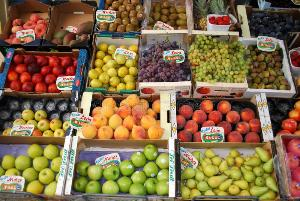apple: (69, 137, 172, 199), (0, 136, 66, 198), (1, 94, 76, 138), (89, 40, 137, 88)
grape: (192, 35, 245, 91), (140, 39, 190, 85)
kiwi: (104, 0, 148, 36), (150, 0, 188, 32)
mango: (44, 12, 92, 46)
peach: (173, 94, 270, 142), (78, 94, 168, 140), (0, 52, 82, 96), (0, 4, 46, 51)
pear: (172, 145, 282, 201)
